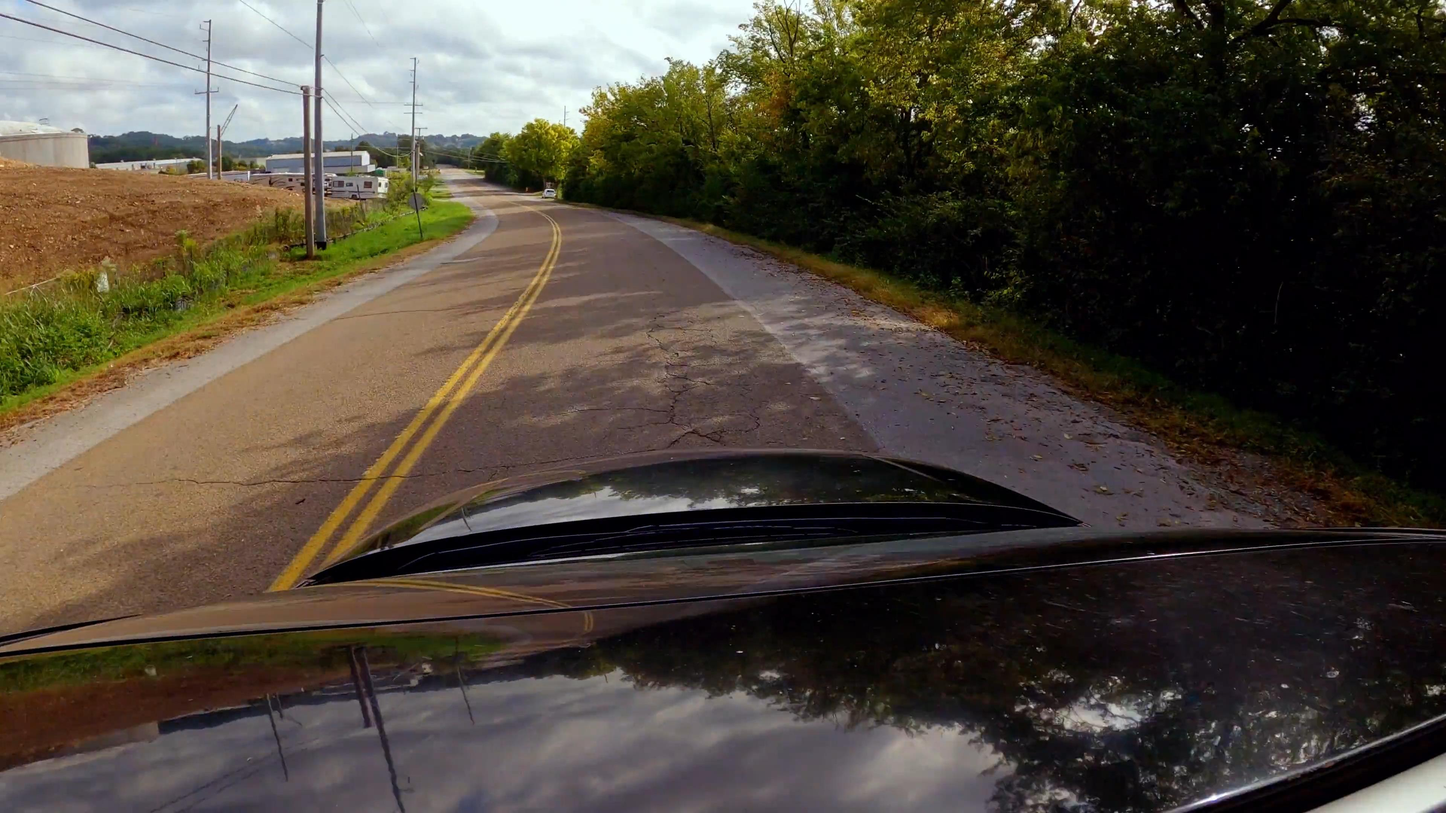dry: (0, 170, 1284, 639)
